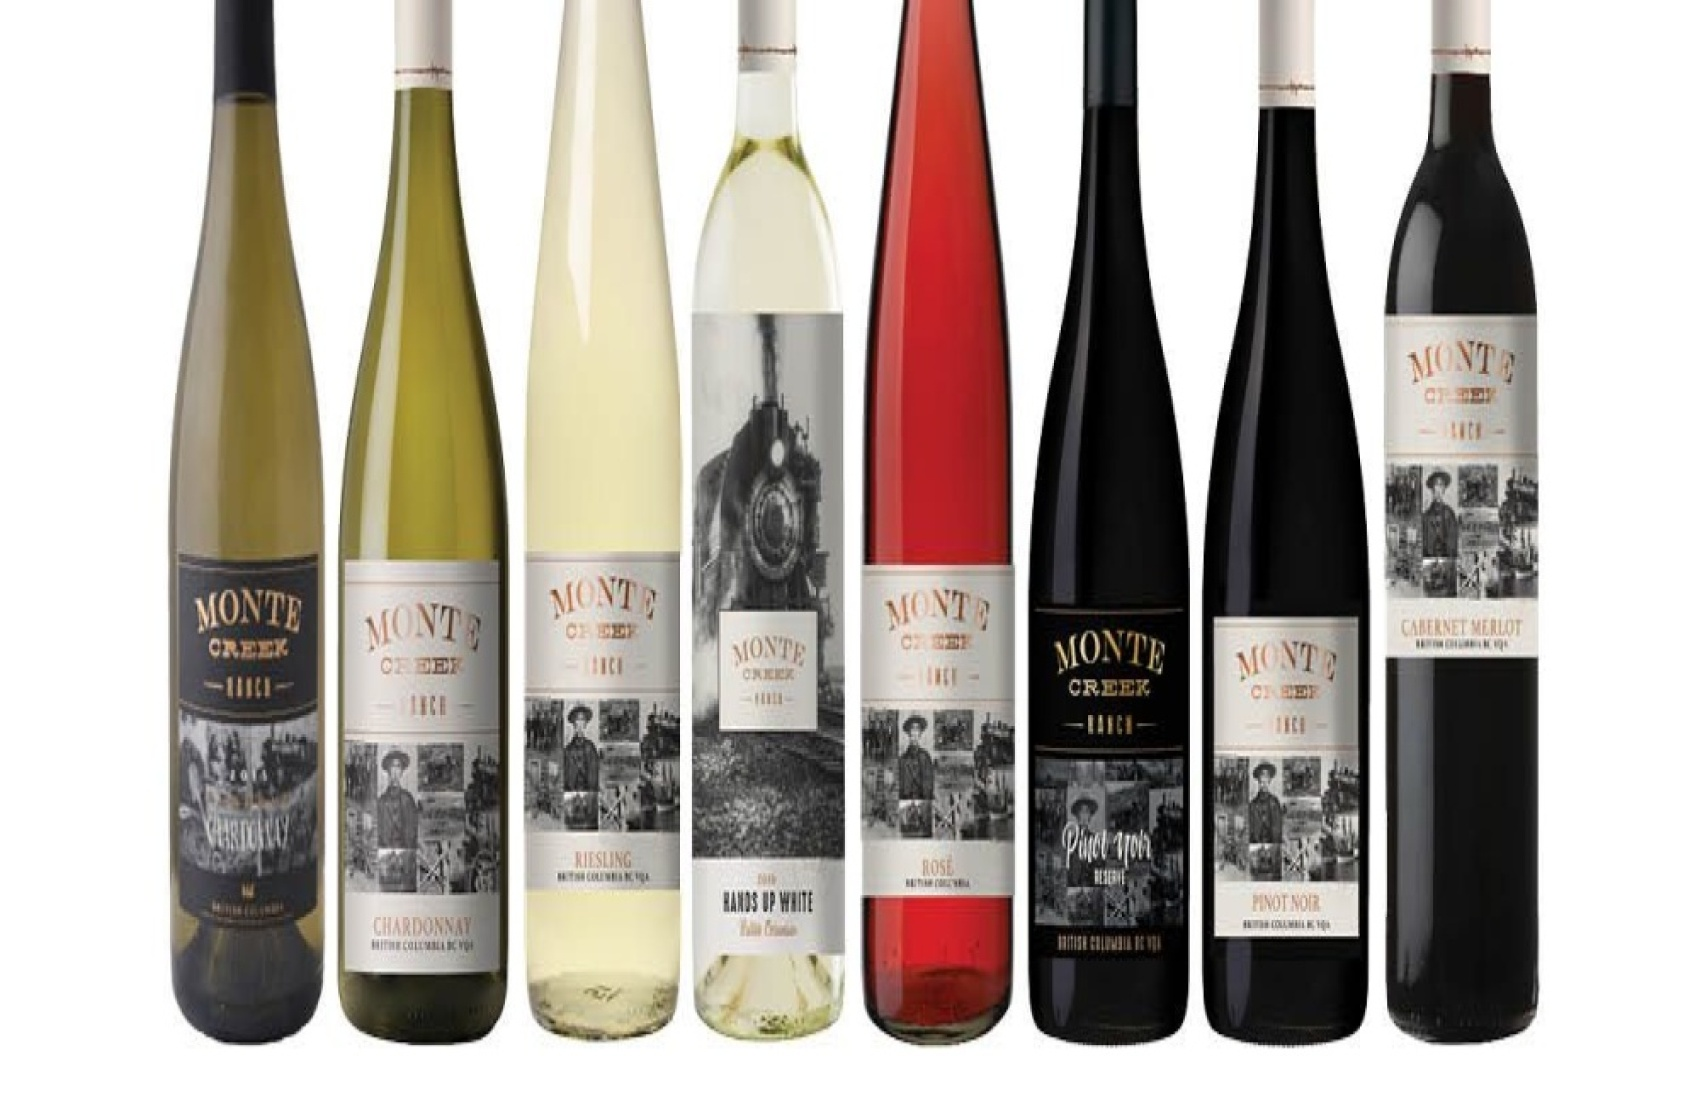wine: (691, 1, 851, 1029), (859, 10, 1019, 1038), (167, 2, 326, 1031), (342, 14, 501, 1042), (525, 7, 684, 1036), (1026, 10, 1185, 1038), (1204, 12, 1363, 1041), (1373, 10, 1531, 1038)
